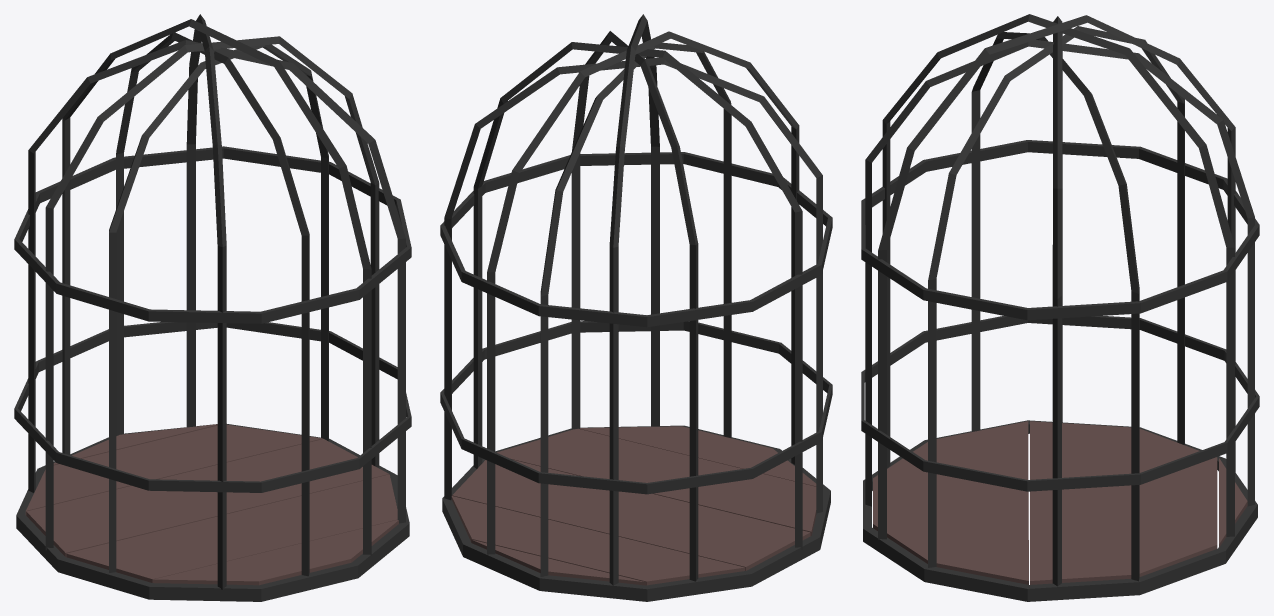
Rendered from cell_1_mat.fbx.
The picture shows the model from 3 angles, left to right: view 1: azimuth 30°, elevation 25°; view 2: azimuth 150°, elevation 25°; view 3: azimuth 270°, elevation 25°; orthographic projection. The views are drawn at different scales.
Parts seen in each view (by area): view 1: cell_1_mat; view 2: cell_1_mat; view 3: cell_1_mat.
Boxes of the visible parts, x1=… form: cell_1_mat: x1=14, y1=14, x2=411, y2=601; cell_1_mat: x1=440, y1=14, x2=832, y2=601; cell_1_mat: x1=861, y1=14, x2=1259, y2=601.
Bounding box in the file's own units: 348 × 475 × 344.
